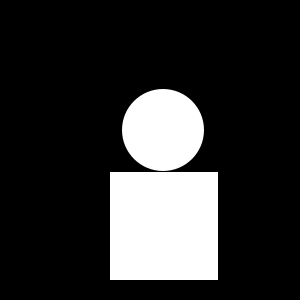circle: (110, 172, 218, 280), (143, 226, 178, 261)
rectangle: (122, 89, 204, 171)
